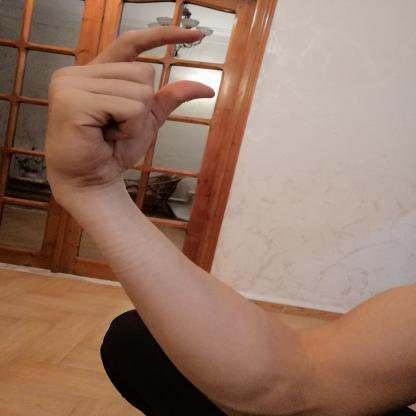DELL: (28, 20, 225, 203)
